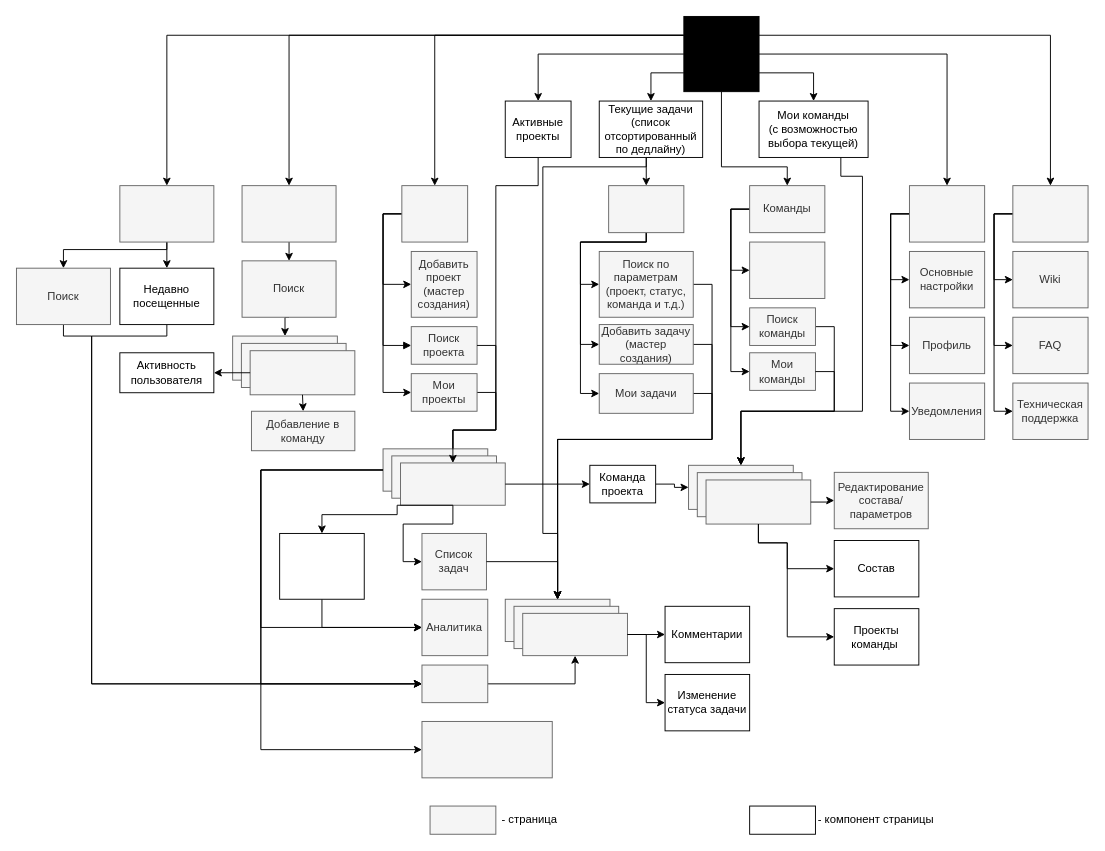
Image size: 1105x851. Some labels were removed from this diagram. Here are the shapes that lost their labels. From the top down, the box of each, then its label:
(683, 16, 759, 92): Главная страница
(119, 185, 214, 242): Доски
(241, 185, 336, 242): Пользователи
(401, 185, 468, 242): Проекты
(608, 185, 684, 233): Задачи
(909, 185, 985, 242): Настройки
(1012, 185, 1088, 242): Помощь
(749, 241, 825, 298): Добавить команду (мастер создания)
(249, 350, 355, 395): Пользователь
(400, 462, 505, 505): Проект
(705, 479, 811, 524): Команда
(279, 533, 364, 599): Ключевая аналитика и общий статус проекта
(522, 612, 627, 656): Задача
(421, 664, 488, 703): Kanban-доска
(421, 721, 552, 778): Добавить задачу (мастер создания с заполненной информацией проекта)
